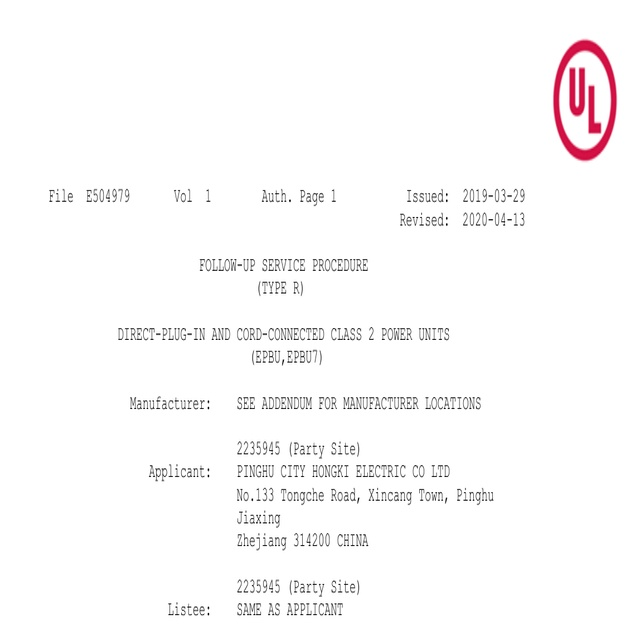ul: (553, 39, 618, 162)
